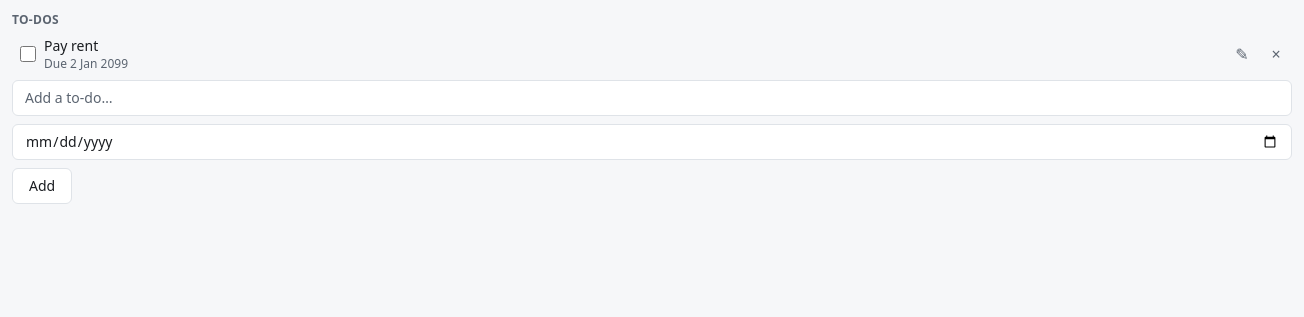
Scenario: TodoSection › edits the title and due date, sending only what changed
This screenshot has width=1304, height=317.
Click the button named "Edit to-do Pay rent". click: coordinates (1242, 54)
box: [1226,38,1258,70]
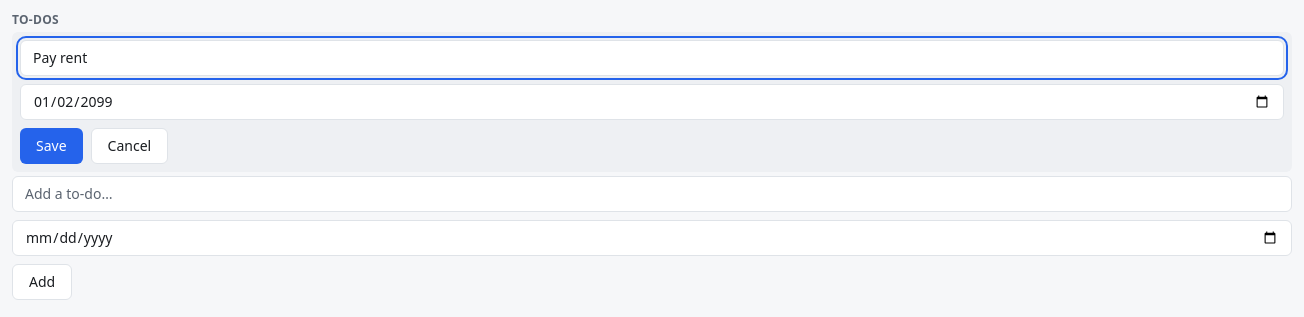
Result: the date field named "Due date" holds "2099-01-02" at [20,84,1284,120]
Replace the text in the field named "To-do" with "Pay the rent". click: coordinates (652, 58)
box: [20,40,1284,76]
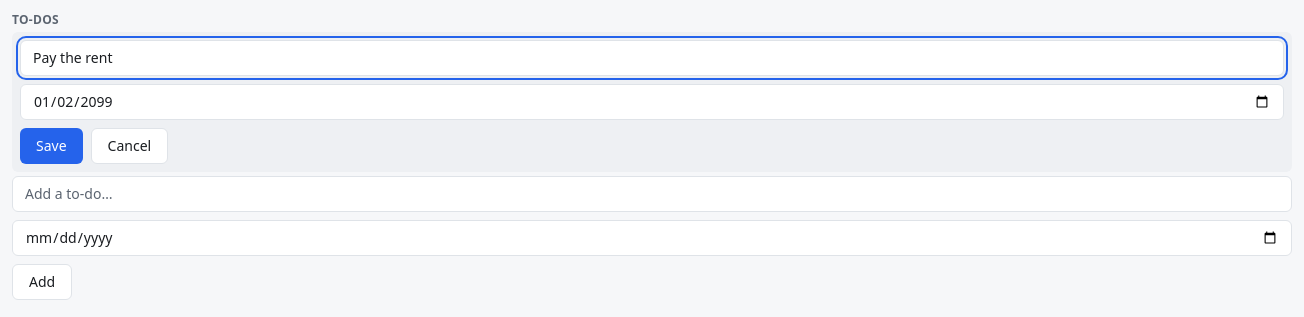
Type "2099-05-06" into the date field named "Due date". click: coordinates (652, 102)
box: [20,84,1284,120]
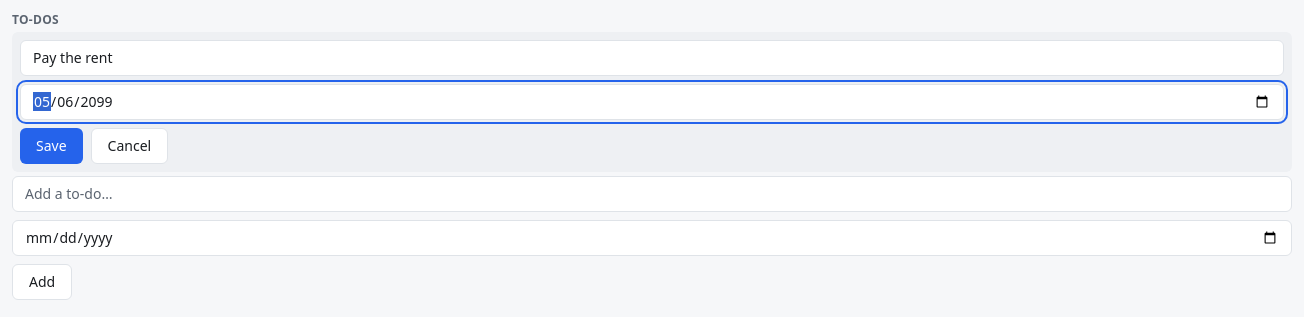
Click the button "Save". click: coordinates (51, 146)
box: [20,128,83,164]
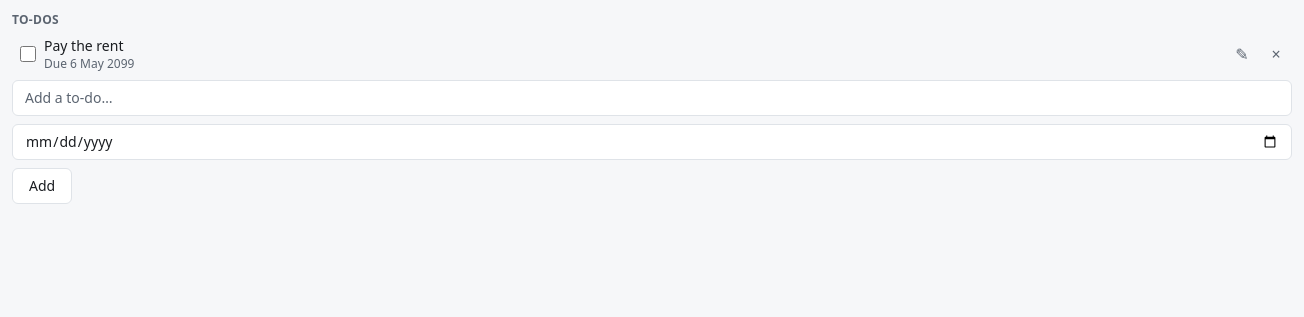
Result: the text "Pay the rent" is shown at [44,36,124,55]
